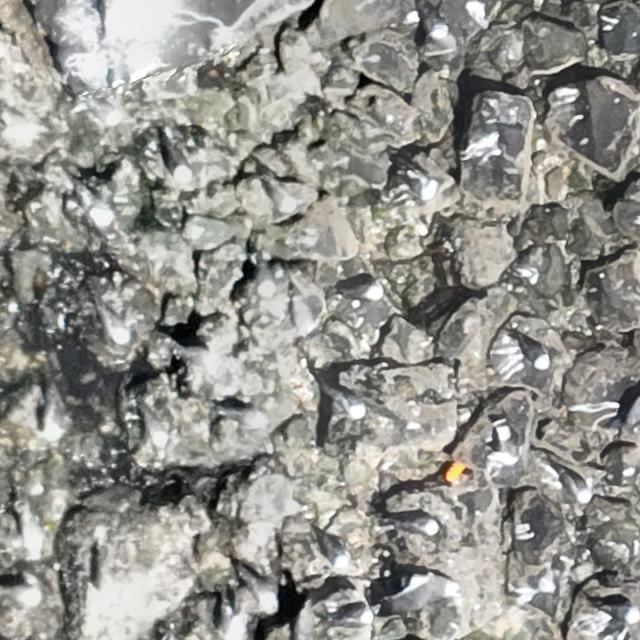umineko: (328, 389, 369, 419), (338, 278, 382, 305), (416, 0, 448, 34), (395, 182, 439, 204), (171, 148, 194, 185), (522, 341, 548, 367), (336, 607, 371, 626), (568, 475, 592, 502), (257, 264, 276, 298), (410, 516, 437, 534), (608, 604, 637, 620)
